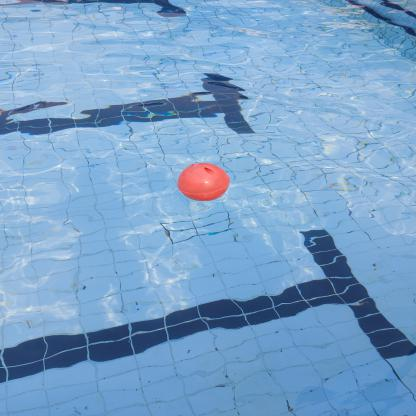red_buoy: (174, 160, 232, 204)
